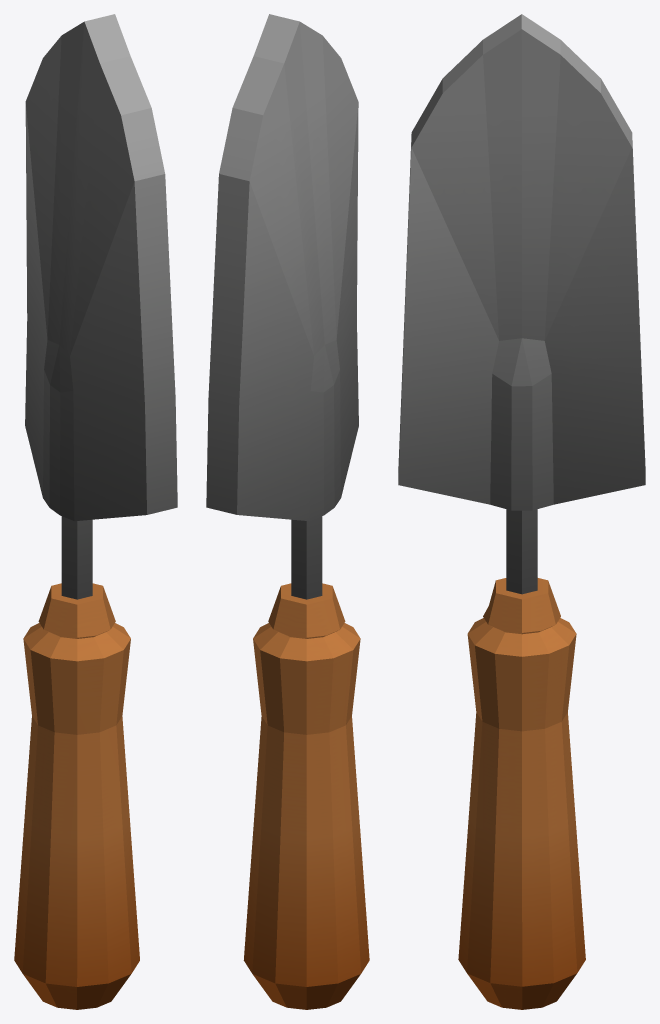
Rendered from garden_trough.fbx.
3 views of the same model, side by side, from view 1: azimuth 30°, elevation 25°; view 2: azimuth 150°, elevation 25°; view 3: azimuth 270°, elevation 25° (orthographic).
Parts seen in each view (by area): view 1: garden_trough; view 2: garden_trough; view 3: garden_trough.
Boxes of the visible parts, x1,y1,x2,y2 form: garden_trough: (14, 14, 177, 1009); garden_trough: (206, 14, 369, 1009); garden_trough: (398, 14, 645, 1009).
Size of the model in its own units: 5 by 42.53 by 9.7.
